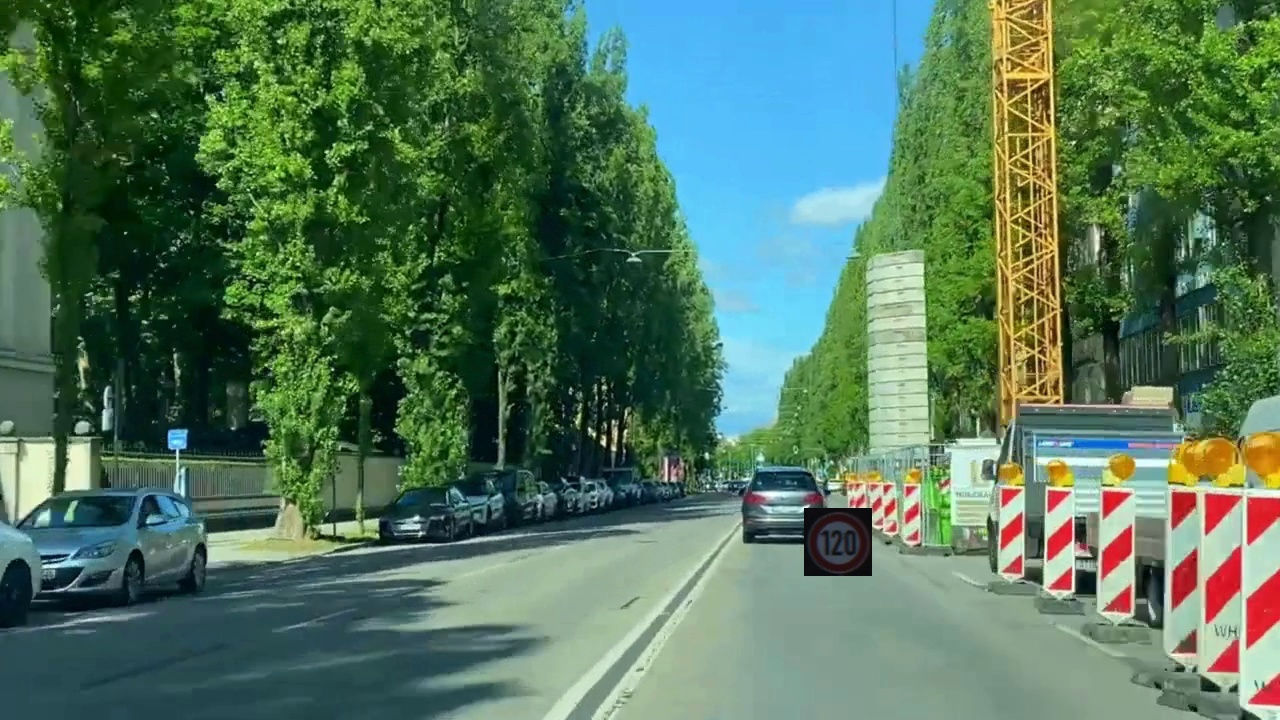Speed 120: (804, 508, 872, 576)
